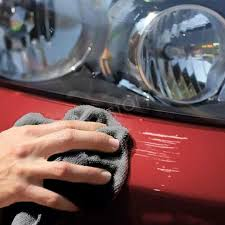scratch: (134, 118, 191, 183)
